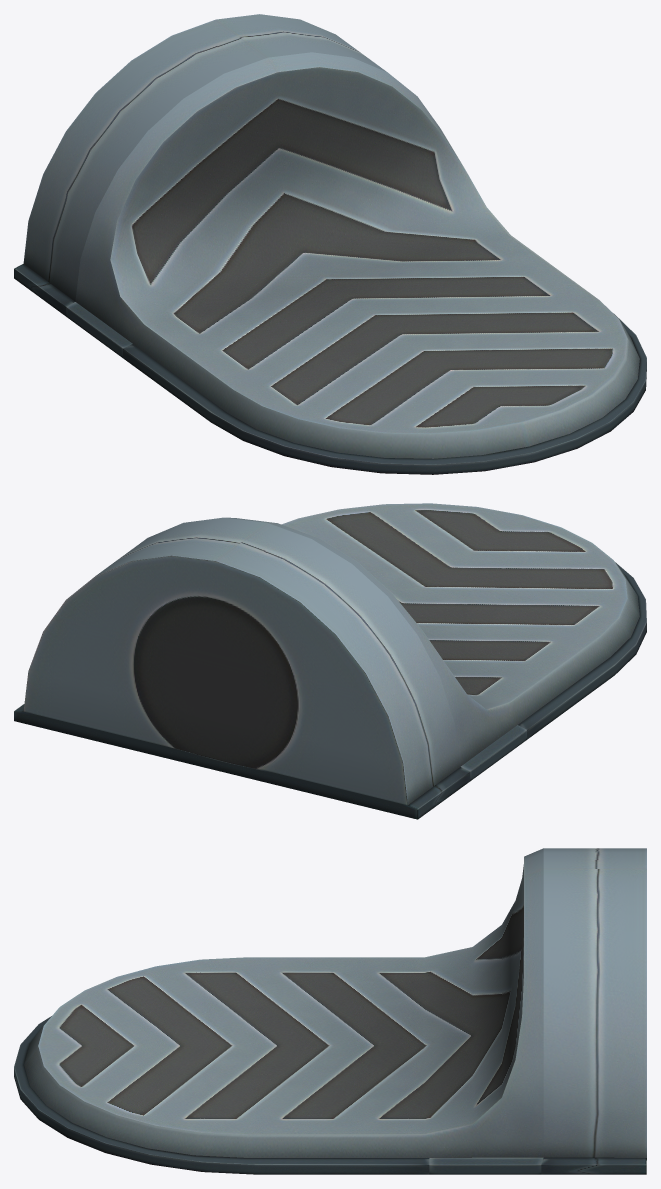
The model's file is jumppad1_c.obj.
3 views of the same model, one above another, from view 1: azimuth 30°, elevation 25°; view 2: azimuth 150°, elevation 25°; view 3: azimuth 270°, elevation 25° (orthographic).
Parts seen in each view (by area): view 1: jumppad1_c:Mesh_0; view 2: jumppad1_c:Mesh_0; view 3: jumppad1_c:Mesh_0.
Boxes of the visible parts, bbox=[...] form: jumppad1_c:Mesh_0: bbox=[14, 14, 646, 474]; jumppad1_c:Mesh_0: bbox=[14, 503, 646, 819]; jumppad1_c:Mesh_0: bbox=[14, 848, 646, 1174].
Bounding box in the file's own units: 86.02 × 42.59 × 118.
